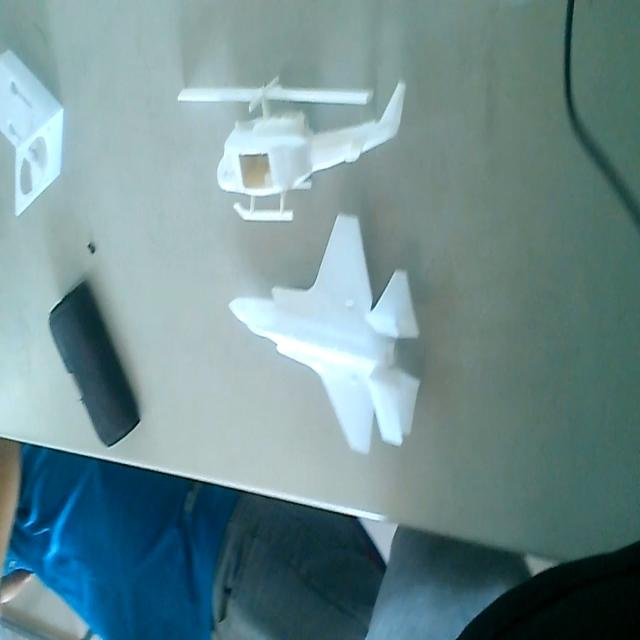Helicopter: (174, 67, 406, 220)
Jet: (228, 218, 420, 458)
